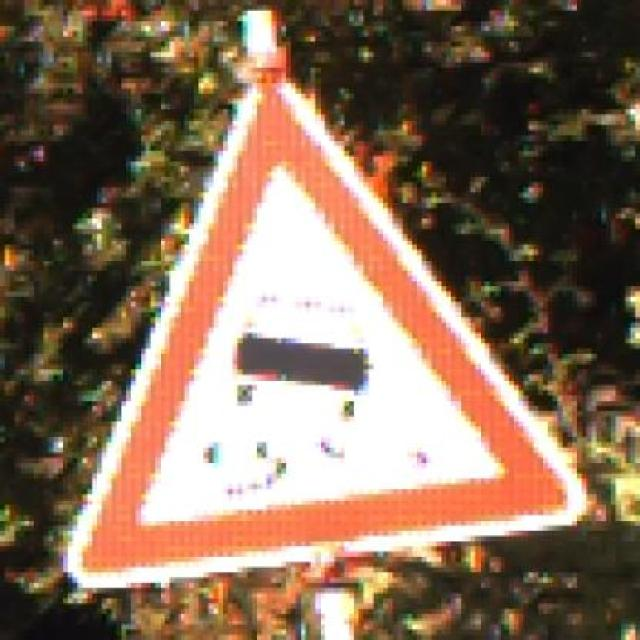Slippery Road Ahead: (44, 89, 587, 593)
